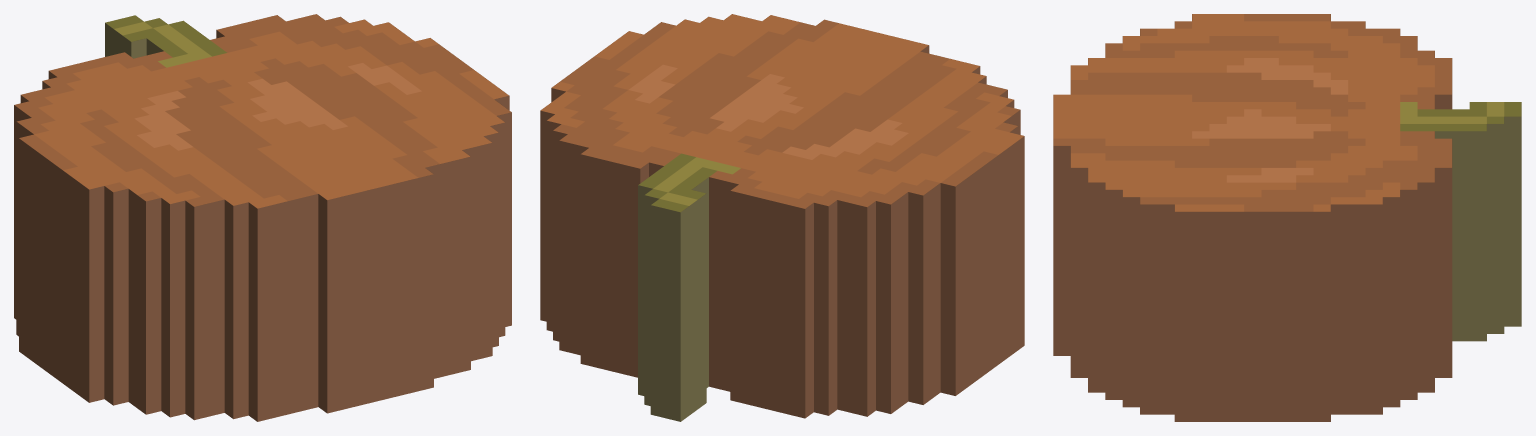
The model's file is pumpkin1.glb.
3 renders of one model, left to right at view 1: azimuth 30°, elevation 25°; view 2: azimuth 150°, elevation 25°; view 3: azimuth 270°, elevation 25°, orthographic.
Visible parts, largest first — view 1: pumpkin1-1; view 2: pumpkin1-1; view 3: pumpkin1-1.
Boxes of the visible parts, box(x1,y1,x2,y2) form: pumpkin1-1: box(14, 14, 511, 421); pumpkin1-1: box(540, 14, 1024, 421); pumpkin1-1: box(1053, 14, 1521, 421).
Size of the model in its own units: 0.8438 by 0.4178 by 0.8438.
3 materials, 1 textured.
